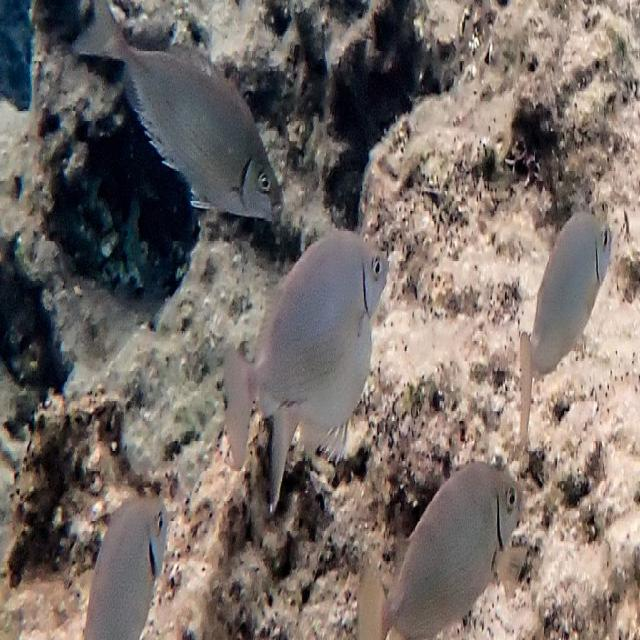Sokar Baligi: (72, 0, 280, 248), (216, 228, 407, 474), (509, 199, 628, 461)
